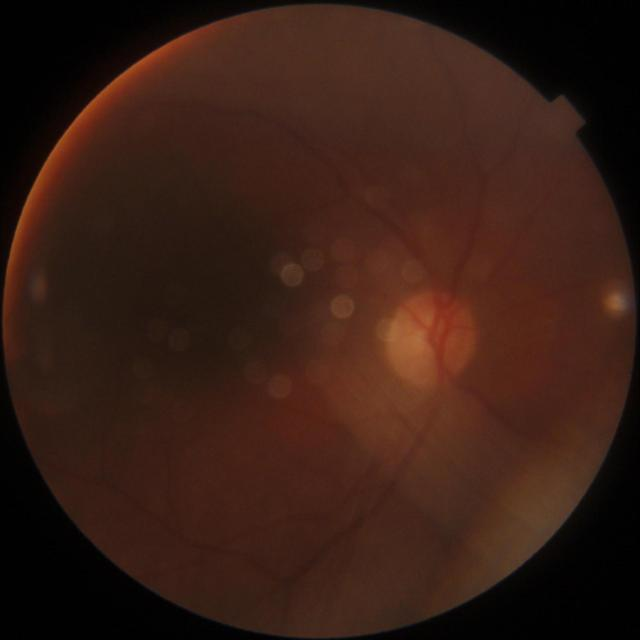OC: (414, 327, 442, 355)
OD: (386, 292, 476, 389)
